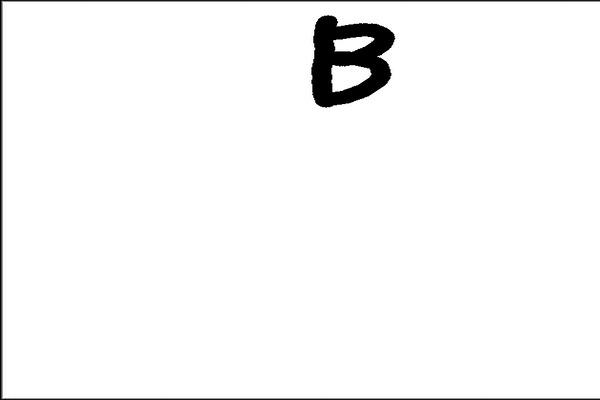B: (300, 8, 403, 111)
